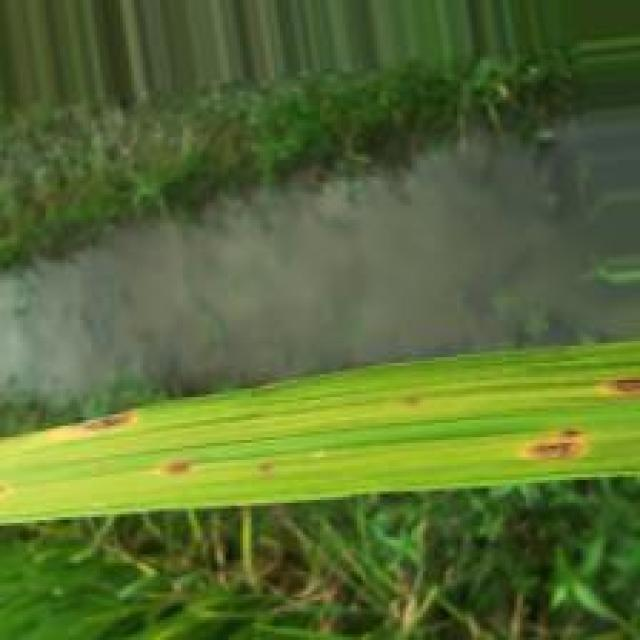Brown_Spot: (514, 427, 588, 462), (70, 405, 136, 435), (597, 375, 640, 400), (162, 459, 189, 476)
